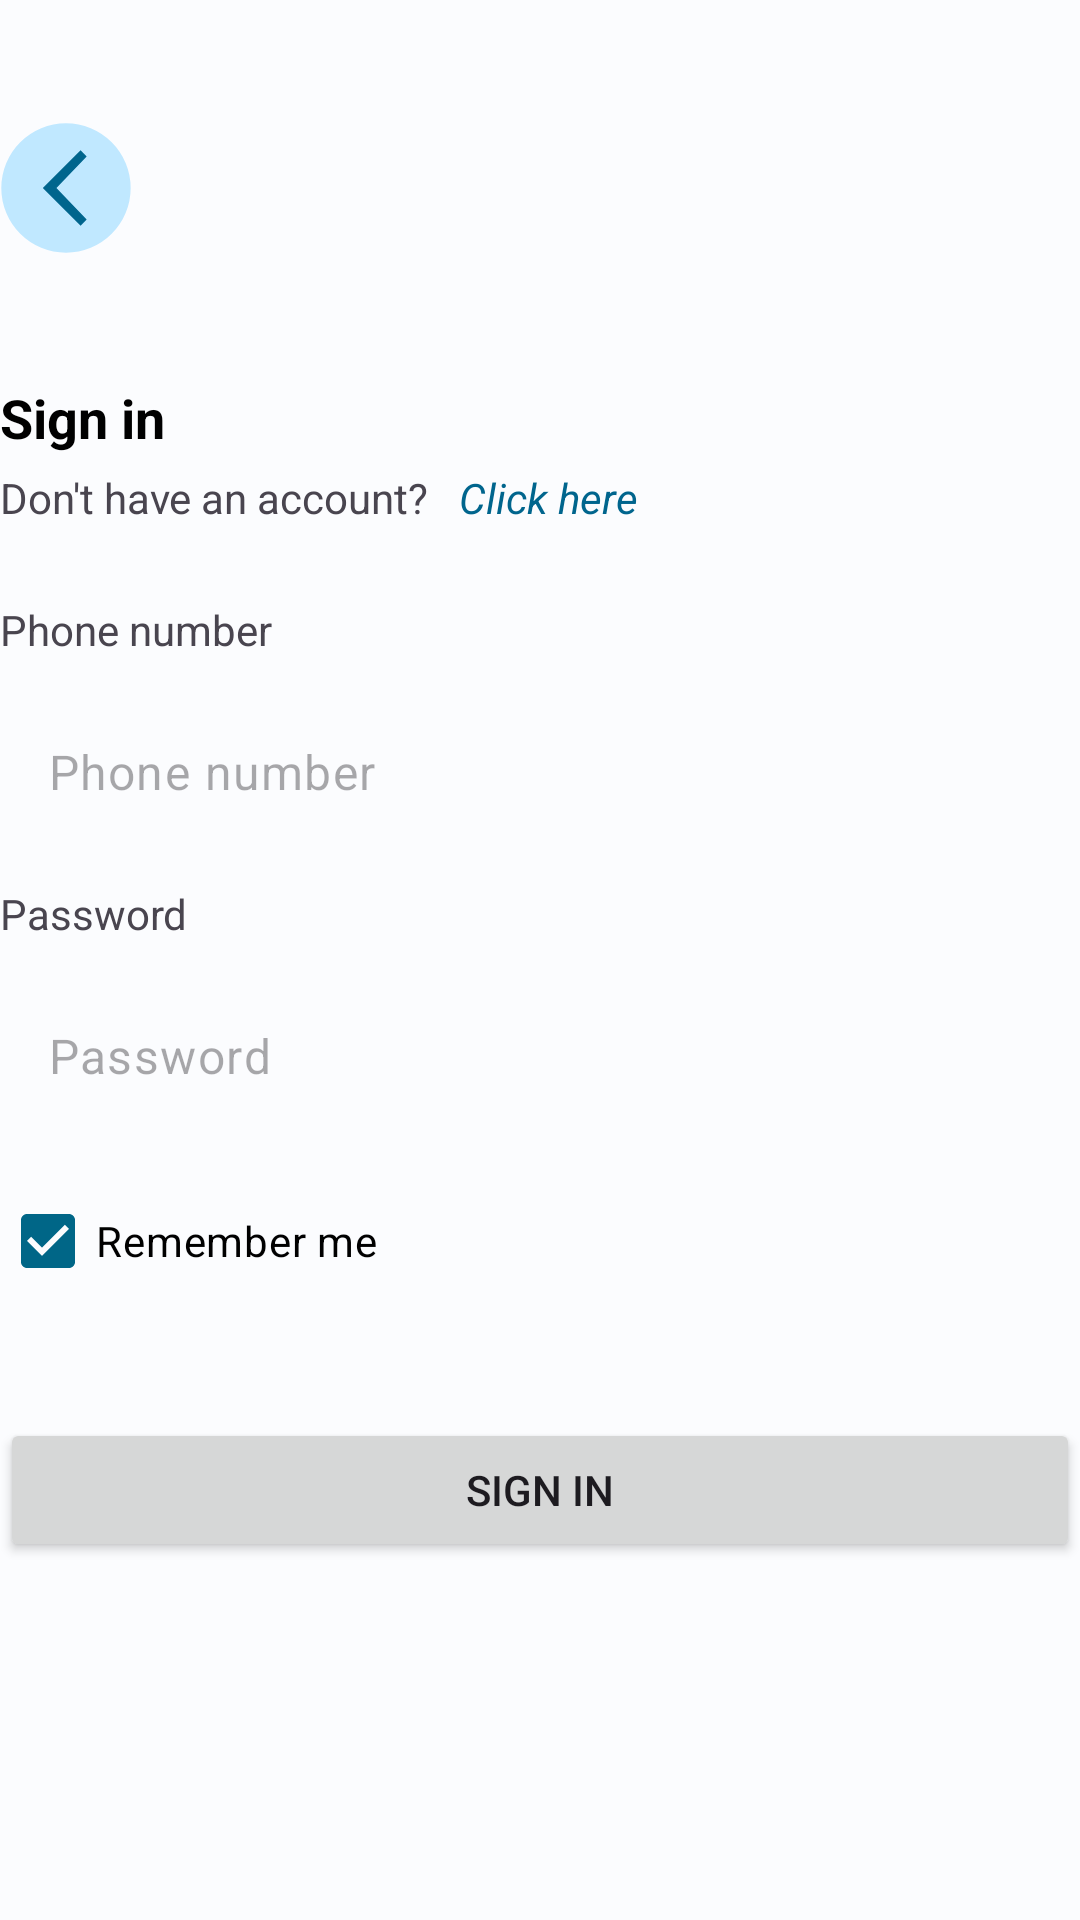

Named icons in this screenshot (1080 x 1920) and their bounding boxes, (x1, y1, x2, y2):
Back: (1, 123, 131, 253)
